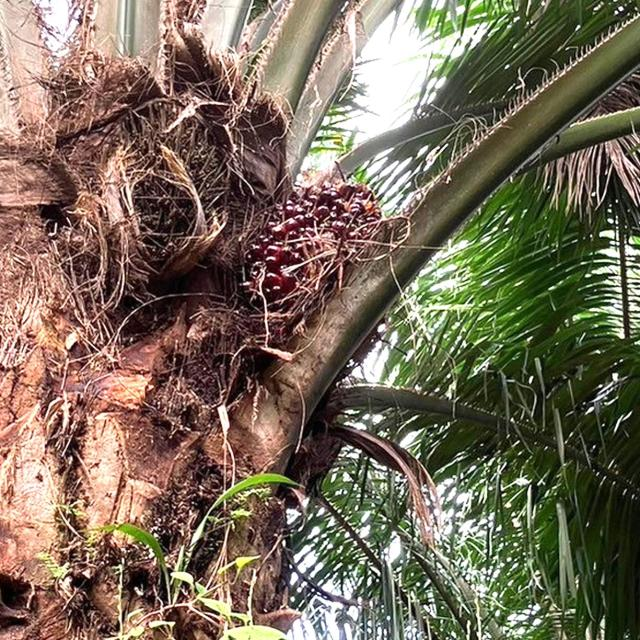ripe: (244, 177, 386, 334)
